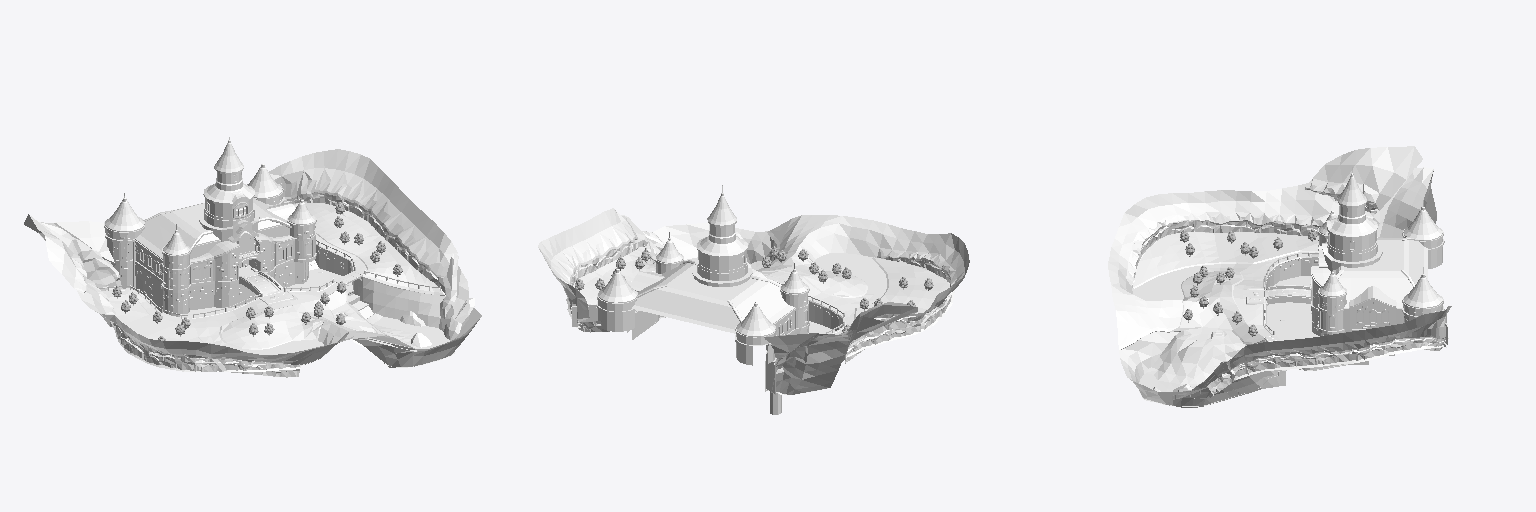
File: peach_castle.obj
3 views of the same model, side by side, from view 1: azimuth 30°, elevation 25°; view 2: azimuth 150°, elevation 25°; view 3: azimuth 270°, elevation 25° (orthographic).
Parts seen in each view (by area): view 1: Grass_Plane.004, Castle_Plane.001, Windows.001_Plane.002; view 2: Grass_Plane.004, Castle_Plane.001; view 3: Grass_Plane.004, Castle_Plane.001.
Boxes of the visible parts, x1=… form: Grass_Plane.004: x1=24, y1=149, x2=481, y2=377; Castle_Plane.001: x1=104, y1=137, x2=362, y2=316; Windows.001_Plane.002: x1=140, y1=175, x2=311, y2=287; Grass_Plane.004: x1=538, y1=208, x2=969, y2=414; Castle_Plane.001: x1=572, y1=185, x2=838, y2=394; Grass_Plane.004: x1=1108, y1=146, x2=1451, y2=407; Castle_Plane.001: x1=1246, y1=167, x2=1447, y2=370.
Size of the model in its own units: 305 by 162 by 258.